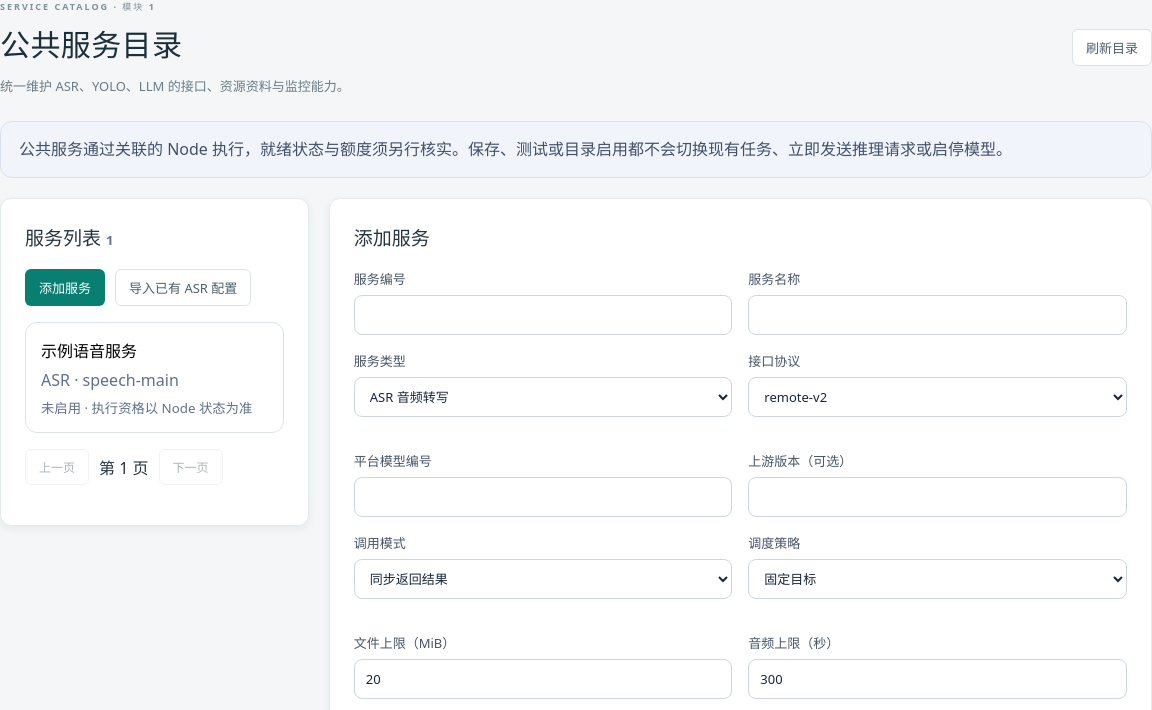
Test: public service catalog module › imports only when requested and does not activate imported services
Expected: the button "示例语音服务 ASR · speech-main 未启用 · 执行资格以 Node 状态为准" is shown, x1=25 y1=322 x2=284 y2=433
Click the button "导入已有 ASR 配置".
click(183, 288)  # box x1=115 y1=269 x2=251 y2=306
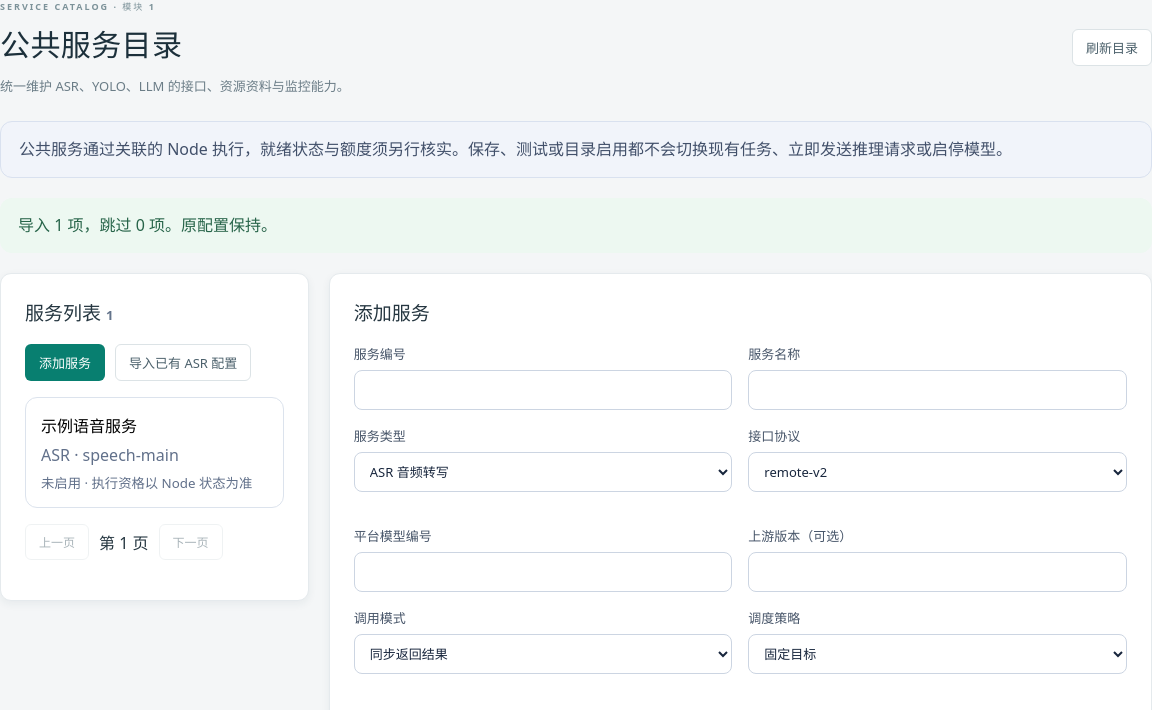
Result: the text "导入 1 项，跳过 0 项。原配置保持。" is shown at x1=0 y1=198 x2=1151 y2=253
